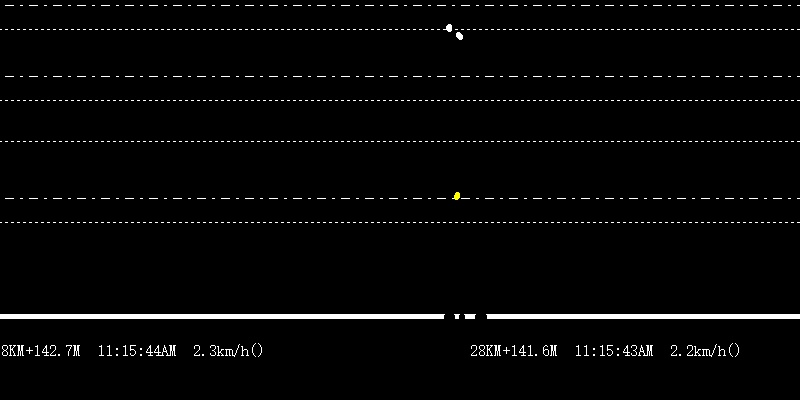face_1: (444, 22, 452, 37)
face_down: (455, 29, 464, 44)
